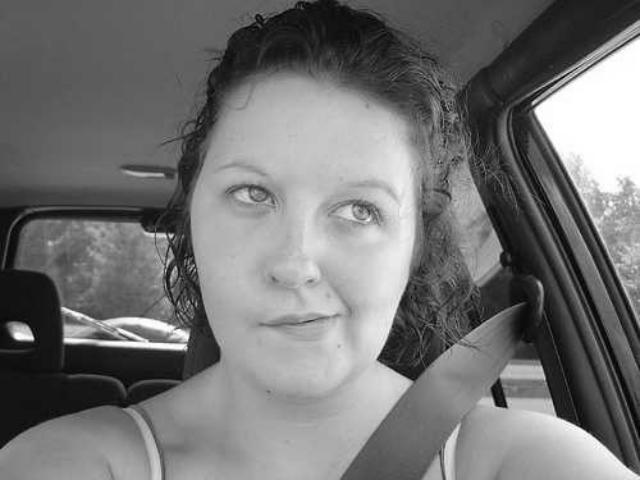SafeDriving: (317, 180, 397, 238), (214, 162, 288, 218)
Seatbelt: (334, 286, 552, 480)
